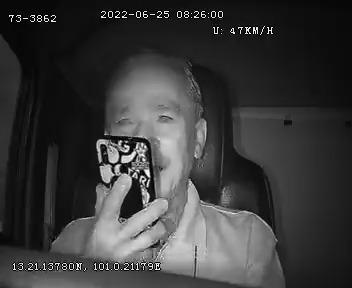PhoneUse: (86, 127, 166, 257)
